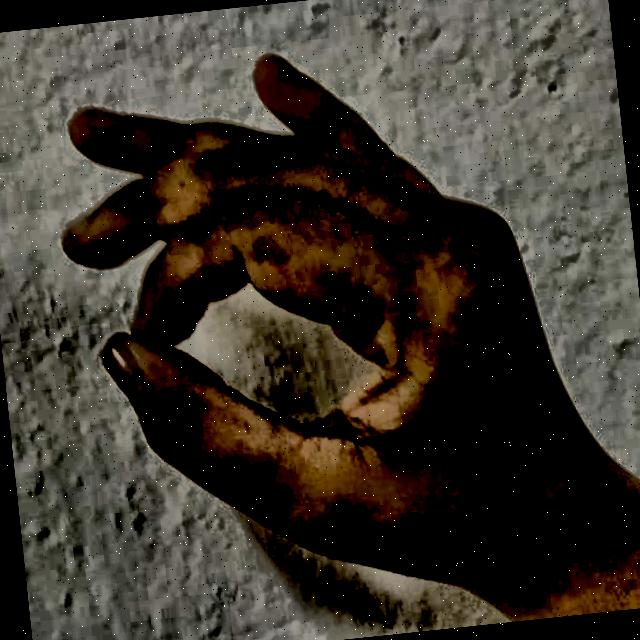Yo: (19, 12, 622, 640)
